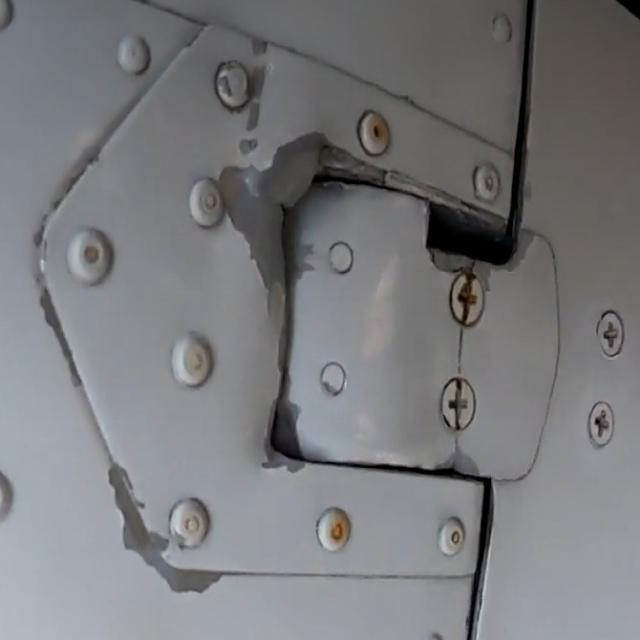crack: (443, 327, 475, 381)
